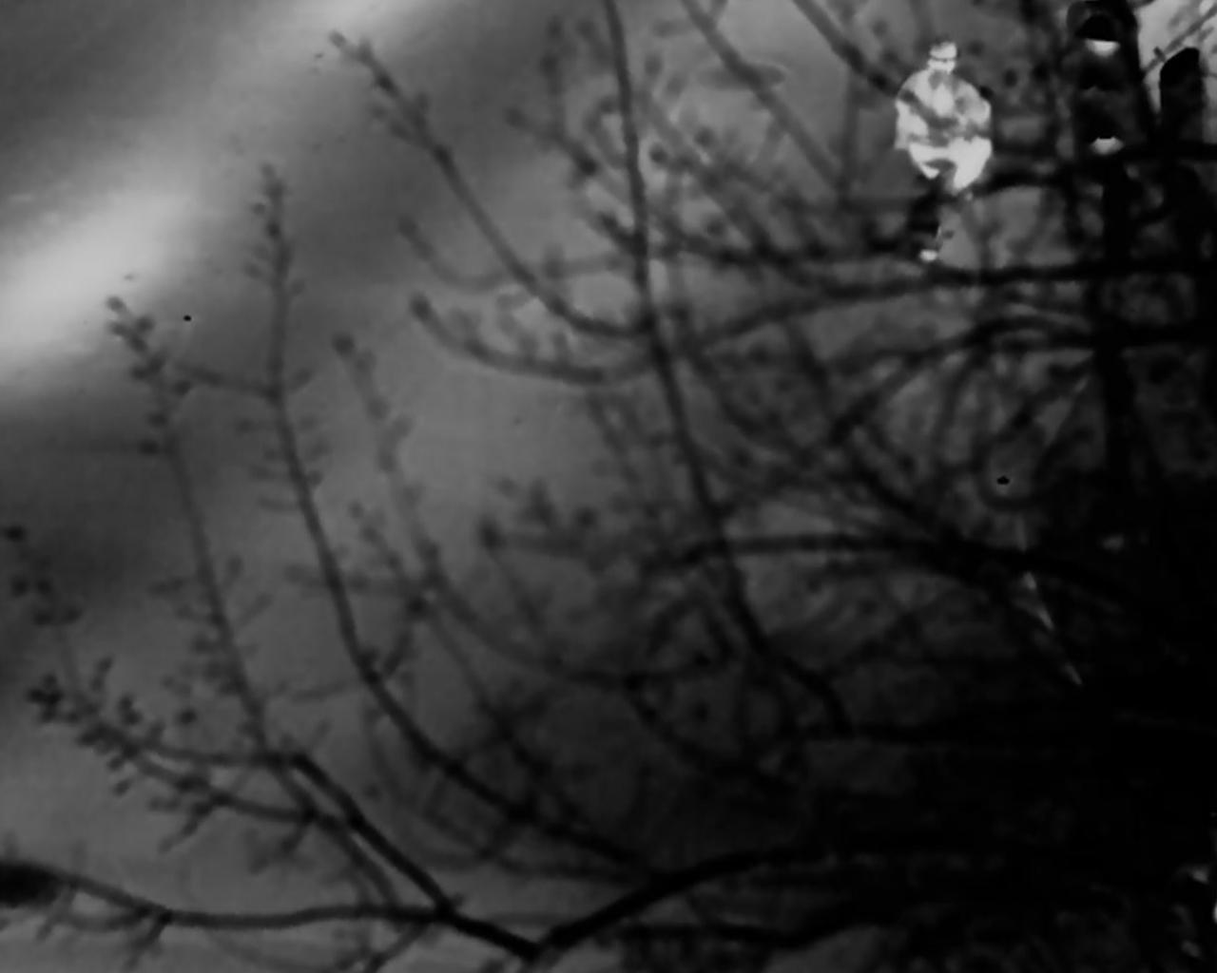person: (892, 44, 1003, 223)
